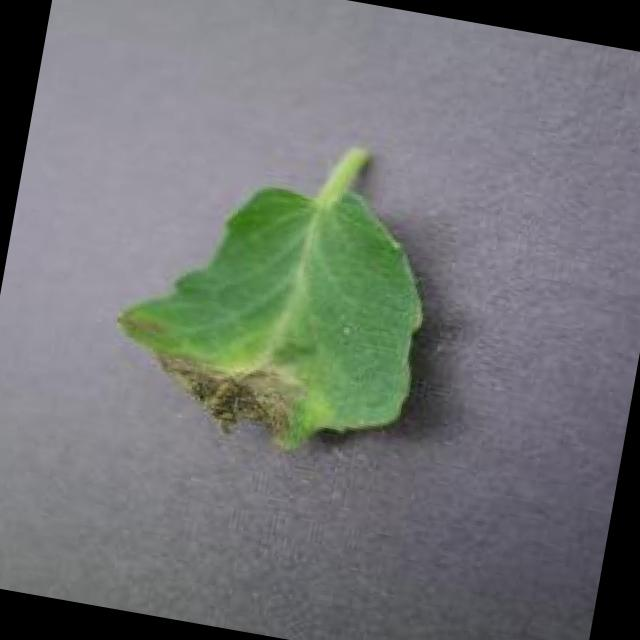Tomato_Late_Blight: (100, 308, 320, 451)
